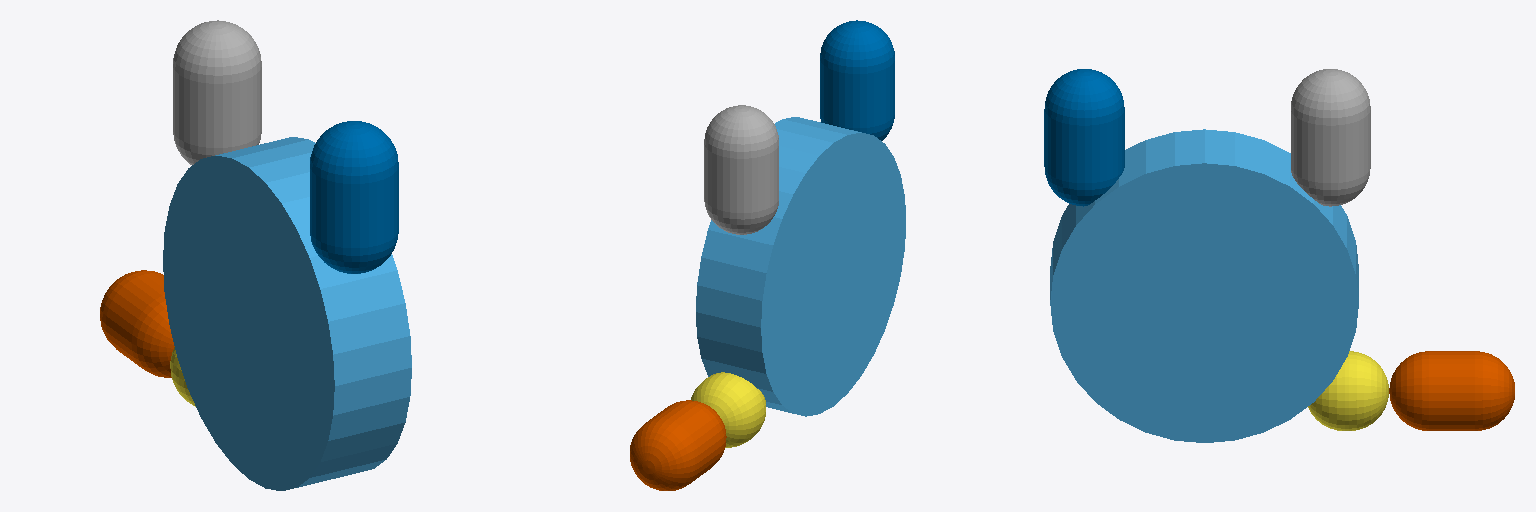
The robot description file, URDF, robot "DexterousHand":
<?xml version="1.0"?>
<robot name="DexterousHand">


    <link name="world"/>
    <joint name="world_to_palm" type="fixed">
        <parent link="world"/>
        <child link="palm"/>
        <origin xyz="0 0 0" rpy="0 0 0"/>
    </joint>
    <link name="palm">
        <inertial>
            <origin xyz="0 0 0.057" rpy="0 0 0"/>
            <mass value="0.30212892864"/>
            <inertia ixx="0.00049080844457568" ixy="0.0" ixz="0.0" iyy="0.00026746366246427523" iyz="0.0" izz="0.00026746366246427523"/>
        </inertial>
        <visual>
            <origin xyz="0 0 0.057" rpy="1.5708 0 1.5708"/>
            <geometry>
                <cylinder radius="0.057" length="0.0296"/>
            </geometry>
            <material name="default"/>
        </visual>
        <collision>
            <origin xyz="0 0 0.057" rpy="1.5708 0 1.5708"/>
            <geometry>
                <cylinder radius="0.057" length="0.0296"/>
            </geometry>
        </collision>
    </link>

    
    <joint name="thumb_joint1" type="revolute">
        <parent link="palm"/>
        <child link="thumb_base"/>
        <origin xyz="0.0029 0.0368 0.0157" rpy="-1.5708 -1.5708 0.0"/>
        <axis xyz="-1 0 0"/>
        <limit lower="-0.349" upper="2.094" effort="1.0" velocity="1.0"/>
    </joint>

    <link name="thumb_base"></link>

    <joint name="thumb_joint2" type="revolute">
        <parent link="thumb_base"/>
        <child link="thumb_proximal"/>
        <origin xyz="0.0 0.0 0.0" rpy="0.0 0.0 0.0"/>
        <axis xyz="0 0 1"/>
        <limit lower="-0.47" upper="2.443" effort="1.0" velocity="1.0"/>
    </joint>

    <link name="thumb_proximal">
        <inertial>
            <origin xyz="0 0 0.01565" rpy="0 0 0"/>
            <mass value="0.021538658803200002"/>
            <inertia ixx="2.9378910096388167e-06" ixy="0.0" ixz="0.0" 
            iyy="2.9378910096388167e-06" iyz="0.0" izz="2.358913912126464e-06"/>
        </inertial>
        <visual>
            <origin xyz="0 0 0.01565" rpy="0 0 0"/>
            <geometry>
                <cylinder radius="0.0148" length="0.0017000000000000001"/>
            </geometry>
            <material name="default"/>
        </visual>
        <visual>
            <origin xyz="0 0 0.0148" rpy="0 0 0"/>
            <geometry>
                <sphere radius="0.0148"/>
            </geometry>
            <material name="default"/>
        </visual>
        <visual>
            <origin xyz="0 0 0.0165" rpy="0 0 0"/>
            <geometry>
                <sphere radius="0.0148"/>
            </geometry>
            <material name="default"/>
        </visual>
        <collision>
            <origin xyz="0 0 0.01565" rpy="0 0 0"/>
            <geometry>
                <cylinder radius="0.0148" length="0.0017000000000000001"/>
            </geometry>
        </collision>
        <collision>
            <origin xyz="0 0 0.0148" rpy="0 0 0"/>
            <geometry>
                <sphere radius="0.0148"/>
            </geometry>
        </collision>
        <collision>
            <origin xyz="0 0 0.0165" rpy="0 0 0"/>
            <geometry>
                <sphere radius="0.0148"/>
            </geometry>
        </collision>
    </link>

    <joint name="thumb_joint3" type="revolute">
        <parent link="thumb_proximal"/>
        <child link="thumb_knuckle"/>
        <origin xyz="0.0 0.0 0.0313" rpy="0.0 0.0 0.0"/>
        <axis xyz="1 0 0"/>
        <limit lower="0.0" upper="0.0" effort="1.0" velocity="1.0"/>
    </joint>

    <link name="thumb_knuckle"></link>

    <joint name="thumb_joint4" type="revolute">
        <parent link="thumb_knuckle"/>
        <child link="thumb_middle"/>
        <origin xyz="0 0 0" rpy="0 0 0"/> 
        <axis xyz="0 1 0"/>
        <limit lower="-1.2" upper="1.9" effort="1.0" velocity="1.0"/>
    </joint>

    <link name="thumb_middle">
        <inertial>
            <origin xyz="0 0 0.0233" rpy="0 0 0"/>
            <mass value="0.032067140582400004"/>
            <inertia ixx="7.5589732685519385e-06" ixy="0.0" ixz="0.0" 
            iyy="7.5589732685519385e-06" iyz="0.0" izz="3.5119932365844485e-06"/>
        </inertial>
        <visual>
            <origin xyz="0 0 0.0233" rpy="0 0 0"/>
            <geometry>
                <cylinder radius="0.0148" length="0.017"/>
            </geometry>
            <material name="default"/>
        </visual>
        <visual>
            <origin xyz="0 0 0.0148" rpy="0 0 0"/>
            <geometry>
                <sphere radius="0.0148"/>
            </geometry>
            <material name="default"/>
        </visual>
        <visual>
            <origin xyz="0 0 0.0318" rpy="0 0 0"/>
            <geometry>
                <sphere radius="0.0148"/>
            </geometry>
            <material name="default"/>
        </visual>
        <collision>
            <origin xyz="0 0 0.0233" rpy="0 0 0"/>
            <geometry>
                <cylinder radius="0.0148" length="0.017"/>
            </geometry>
        </collision>
        <collision>
            <origin xyz="0 0 0.0148" rpy="0 0 0"/>
            <geometry>
                <sphere radius="0.0148"/>
            </geometry>
        </collision>
        <collision>
            <origin xyz="0 0 0.0318" rpy="0 0 0"/>
            <geometry>
                <sphere radius="0.0148"/>
            </geometry>
        </collision>
    </link>

    <joint name="thumb_joint5" type="revolute">
        <parent link="thumb_middle"/>
        <child link="thumb_distal"/>
        <origin xyz="0 0 0.0466" rpy="0 0 0"/> 
        <axis xyz="0 1 0"/>
        <limit lower="0.0" upper="0.0" effort="1.0" velocity="1.0"/>
    </joint>

    <link name="thumb_distal">
    </link>

    
    <joint name="index_joint1" type="revolute">
        <parent link="palm"/>
        <child link="index_proximal"/>
        <origin xyz="0.0 0.0465 0.091" rpy="0.0 0.0 0.0"/>
        <axis xyz="0 1 0"/>
        <limit lower="-0.314" upper="2.23" effort="1.0" velocity="1.0"/>
    </joint>

    <link name="index_proximal">
        <inertial>
            <origin xyz="0 0 0.02655" rpy="0 0 0"/>
            <mass value="0.036540024998400006"/>
            <inertia ixx="1.058665009272394e-05" ixy="0.0" ixz="0.0" 
            iyy="1.058665009272394e-05" iyz="0.0" izz="4.001863537824769e-06"/>
        </inertial>
        <visual>
            <origin xyz="0 0 0.02655" rpy="0 0 0"/>
            <geometry>
                <cylinder radius="0.0148" length="0.0235"/>
            </geometry>
            <material name="default"/>
        </visual>
        <visual>
            <origin xyz="0 0 0.0148" rpy="0 0 0"/>
            <geometry>
                <sphere radius="0.0148"/>
            </geometry>
            <material name="default"/>
        </visual>
        <visual>
            <origin xyz="0 0 0.0383" rpy="0 0 0"/>
            <geometry>
                <sphere radius="0.0148"/>
            </geometry>
            <material name="default"/>
        </visual>
        <collision>
            <origin xyz="0 0 0.02655" rpy="0 0 0"/>
            <geometry>
                <cylinder radius="0.0148" length="0.0235"/>
            </geometry>
        </collision>
        <collision>
            <origin xyz="0 0 0.0148" rpy="0 0 0"/>
            <geometry>
                <sphere radius="0.0148"/>
            </geometry>
        </collision>
        <collision>
            <origin xyz="0 0 0.0383" rpy="0 0 0"/>
            <geometry>
                <sphere radius="0.0148"/>
            </geometry>
        </collision>
    </link>

    <joint name="index_joint2" type="revolute">
        <parent link="index_proximal"/>
        <child link="index_dummy"/>
        <origin xyz="0.0 0.0 0.038" rpy="0.0 0.0 0.0"/>
        <axis xyz="0 1 0"/>
        <limit lower="0.0" upper="0.0" effort="1.0" velocity="1.0"/>
    </joint>

    <link name="index_dummy"></link>

    <joint name="index_joint3" type="revolute">
        <parent link="index_dummy"/>
        <child link="index_middle"/>
        <origin xyz="0 0 0.015100000000000002" rpy="0 0 0"/>
        <axis xyz="0 1 0"/>
        <limit lower="0.0" upper="0.0" effort="1.0" velocity="1.0"/>
    </joint>

    <link name="index_middle">
    </link>

    <joint name="index_joint4" type="revolute">
        <parent link="index_middle"/>
        <child link="index_distal"/>
        <origin xyz="0 0 0" rpy="0 0 0"/> 
        <axis xyz="0 1 0"/>
        <limit lower="0.0" upper="0.0" effort="1.0" velocity="1.0"/>
    </joint>

    <link name="index_distal">
    </link>

    
    <joint name="middle_joint1" type="revolute">
        <parent link="palm"/>
        <child link="middle_proximal"/>
        <origin xyz="0.0 0.0 0.0" rpy="0.0 0.0 0.0"/>
        <axis xyz="1 0 0"/>
        <limit lower="0.0" upper="0.0" effort="1.0" velocity="1.0"/>
    </joint>

    <link name="middle_proximal">
    </link>

    <joint name="middle_joint2" type="revolute">
        <parent link="middle_proximal"/>
        <child link="middle_dummy"/>
        <origin xyz="0.0 0.0 0.0" rpy="0.0 0.0 0.0"/>
        <axis xyz="0 1 0"/>
        <limit lower="0.0" upper="0.0" effort="1.0" velocity="1.0"/>
    </joint>

    <link name="middle_dummy"></link>

    <joint name="middle_joint3" type="revolute">
        <parent link="middle_dummy"/>
        <child link="middle_middle"/>
        <origin xyz="0 0 0" rpy="0 0 0"/>
        <axis xyz="0 1 0"/>
        <limit lower="0.0" upper="0.0" effort="1.0" velocity="1.0"/>
    </joint>

    <link name="middle_middle">
    </link>

    <joint name="middle_joint4" type="revolute">
        <parent link="middle_middle"/>
        <child link="middle_distal"/>
        <origin xyz="0 0 0" rpy="0 0 0"/> 
        <axis xyz="0 1 0"/>
        <limit lower="0.0" upper="0.0" effort="1.0" velocity="1.0"/>
    </joint>

    <link name="middle_distal">
    </link>

    
    <joint name="ring_joint1" type="revolute">
        <parent link="palm"/>
        <child link="ring_proximal"/>
        <origin xyz="0.0 0.0 0.0" rpy="0.0 0.0 0.0"/>
        <axis xyz="1 0 0"/>
        <limit lower="0.0" upper="0.0" effort="1.0" velocity="1.0"/>
    </joint>

    <link name="ring_proximal">
    </link>

    <joint name="ring_joint2" type="revolute">
        <parent link="ring_proximal"/>
        <child link="ring_dummy"/>
        <origin xyz="0.0 0.0 0.0" rpy="0.0 0.0 0.0"/>
        <axis xyz="0 1 0"/>
        <limit lower="0.0" upper="0.0" effort="1.0" velocity="1.0"/>
    </joint>

    <link name="ring_dummy"></link>

    <joint name="ring_joint3" type="revolute">
        <parent link="ring_dummy"/>
        <child link="ring_middle"/>
        <origin xyz="0 0 0" rpy="0 0 0"/>
        <axis xyz="0 1 0"/>
        <limit lower="0.0" upper="0.0" effort="1.0" velocity="1.0"/>
    </joint>

    <link name="ring_middle">
    </link>

    <joint name="ring_joint4" type="revolute">
        <parent link="ring_middle"/>
        <child link="ring_distal"/>
        <origin xyz="0 0 0" rpy="0 0 0"/> 
        <axis xyz="0 1 0"/>
        <limit lower="0.0" upper="0.0" effort="1.0" velocity="1.0"/>
    </joint>

    <link name="ring_distal">
    </link>

    
    <joint name="little_joint0" type="revolute">
        <parent link="palm"/>
        <child link="little_base"/>
        <origin xyz="0.0 0.0 0.0" rpy="0.0 0.0 0.0"/>
        <axis xyz="0 1 0"/>
        <limit lower="0.0" upper="0.0" effort="1.0" velocity="1.0"/>
    </joint>

    <link name="little_base"></link>

    <joint name="little_joint1" type="revolute">
        <parent link="little_base"/>
        <child link="little_proximal"/>
        <origin xyz="0.0 -0.0443 0.091" rpy="-0.0 -0.0 -0.0"/>
        <axis xyz="0 1 0"/>
        <limit lower="-0.314" upper="2.23" effort="1.0" velocity="1.0"/>
    </joint>

    <link name="little_proximal">
        <inertial>
            <origin xyz="0 0 0.02655" rpy="0 0 0"/>
            <mass value="0.036540024998400006"/>
            <inertia ixx="1.058665009272394e-05" ixy="0.0" ixz="0.0" 
            iyy="1.058665009272394e-05" iyz="0.0" izz="4.001863537824769e-06"/>
        </inertial>
        <visual>
            <origin xyz="0 0 0.02655" rpy="0 0 0"/>
            <geometry>
                <cylinder radius="0.0148" length="0.0235"/>
            </geometry>
            <material name="default"/>
        </visual>
        <visual>
            <origin xyz="0 0 0.0148" rpy="0 0 0"/>
            <geometry>
                <sphere radius="0.0148"/>
            </geometry>
            <material name="default"/>
        </visual>
        <visual>
            <origin xyz="0 0 0.0383" rpy="0 0 0"/>
            <geometry>
                <sphere radius="0.0148"/>
            </geometry>
            <material name="default"/>
        </visual>
        <collision>
            <origin xyz="0 0 0.02655" rpy="0 0 0"/>
            <geometry>
                <cylinder radius="0.0148" length="0.0235"/>
            </geometry>
        </collision>
        <collision>
            <origin xyz="0 0 0.0148" rpy="0 0 0"/>
            <geometry>
                <sphere radius="0.0148"/>
            </geometry>
        </collision>
        <collision>
            <origin xyz="0 0 0.0383" rpy="0 0 0"/>
            <geometry>
                <sphere radius="0.0148"/>
            </geometry>
        </collision>
    </link>

    <joint name="little_joint2" type="revolute">
        <parent link="little_proximal"/>
        <child link="little_dummy"/>
        <origin xyz="0.0 0.0 0.038" rpy="0.0 0.0 0.0"/>
        <axis xyz="0 1 0"/>
        <limit lower="0.0" upper="0.0" effort="1.0" velocity="1.0"/>
    </joint>

    <link name="little_dummy"></link>

    <joint name="little_joint3" type="revolute">
        <parent link="little_dummy"/>
        <child link="little_middle"/>
        <origin xyz="0 0 0.015100000000000002" rpy="0 0 0"/>
        <axis xyz="0 1 0"/>
        <limit lower="0.0" upper="0.0" effort="1.0" velocity="1.0"/>
    </joint>

    <link name="little_middle">
    </link>

    <joint name="little_joint4" type="revolute">
        <parent link="little_middle"/>
        <child link="little_distal"/>
        <origin xyz="0 0 0" rpy="0 0 0"/>
        <axis xyz="0 1 0"/>
        <limit lower="0.0" upper="0.0" effort="1.0" velocity="1.0"/>
    </joint>

    <link name="little_distal">
    </link>

</robot>

--- What the picture shows (computed from the rendered views, not written in the file) ---
The picture shows the robot from 3 angles, left to right: view 1: azimuth 30°, elevation 25°; view 2: azimuth 150°, elevation 25°; view 3: azimuth 270°, elevation 25°; orthographic projection.
Model DexterousHand with 24 links and 23 joints (22 revolute, 1 fixed), rooted at world, posed all joints at 0.
Links seen in each view (by area): view 1: palm, little_proximal, index_proximal, thumb_middle; view 2: palm, index_proximal, little_proximal, thumb_middle, thumb_proximal; view 3: palm, index_proximal, little_proximal, thumb_middle, thumb_proximal.
Boxes of the visible links, <box> form: palm: <box>163,137,411,490</box>; little_proximal: <box>310,121,398,273</box>; index_proximal: <box>173,20,261,164</box>; thumb_middle: <box>100,270,174,377</box>; palm: <box>696,117,905,416</box>; index_proximal: <box>704,105,778,234</box>; little_proximal: <box>820,20,894,140</box>; thumb_middle: <box>630,400,726,490</box>; thumb_proximal: <box>691,372,765,447</box>; palm: <box>1050,129,1358,442</box>; index_proximal: <box>1291,69,1370,206</box>; little_proximal: <box>1044,69,1124,206</box>; thumb_middle: <box>1389,351,1514,430</box>; thumb_proximal: <box>1308,351,1388,430</box>.
Bounding box of the posed robot: 0.0325 × 0.1738 × 0.1441 m (x, y, z).
Geometry: primitives only (box / cylinder / sphere), no mesh files.
